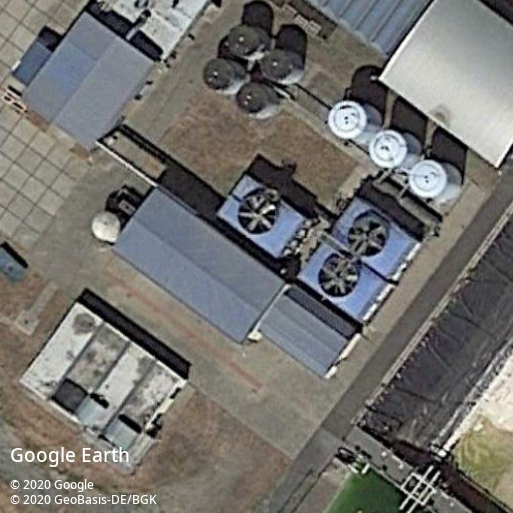Vent: (237, 193, 280, 236), (346, 215, 389, 258), (317, 256, 361, 298)
